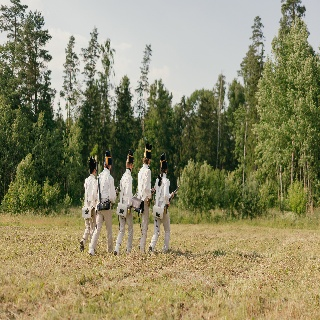rifle: (93, 154, 105, 205), (162, 184, 181, 214)
